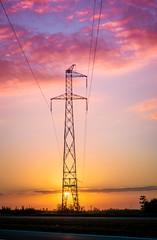power_tower: (45, 61, 90, 214)
